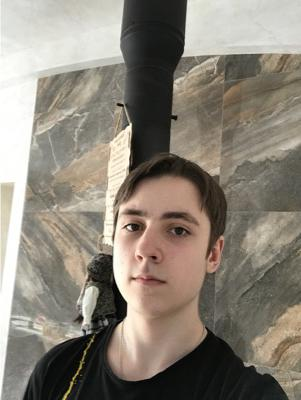without_mask: (112, 208, 210, 317)
